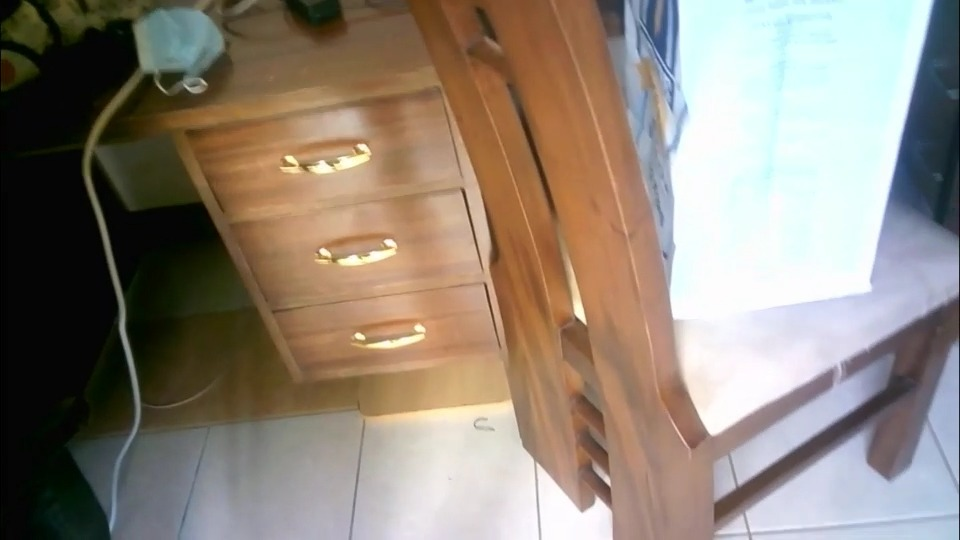wheat_flour_blue_label: (628, 2, 930, 295)
